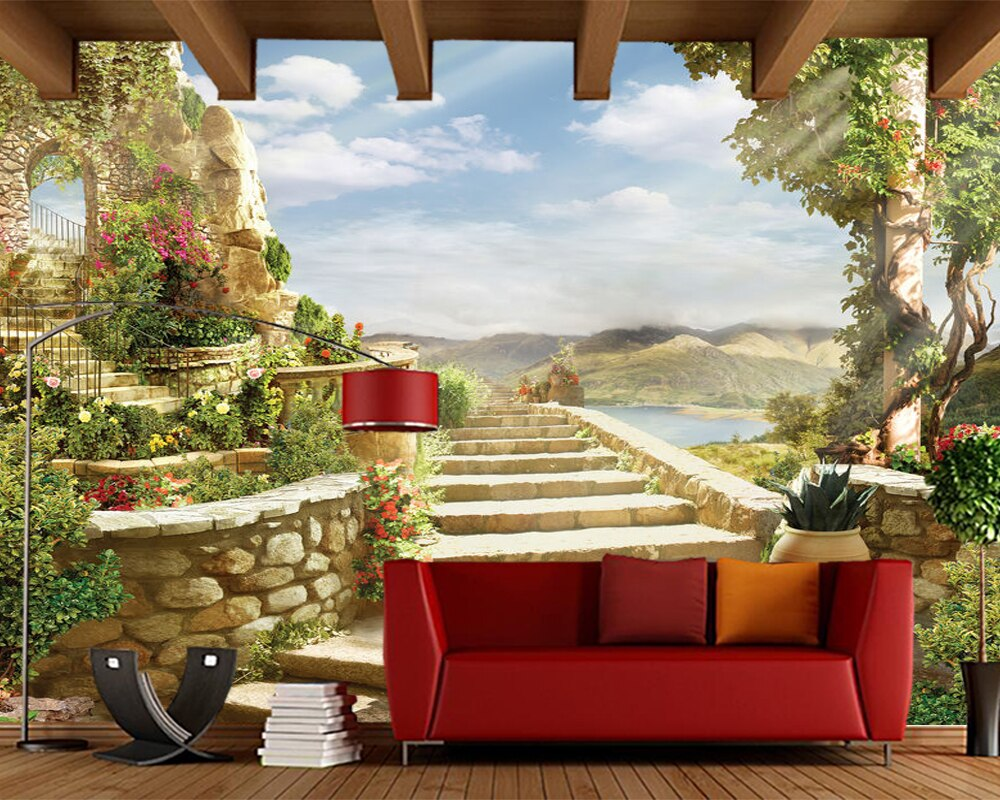buku: (259, 679, 360, 770)
lampu: (24, 308, 439, 798)
sova: (379, 546, 915, 768)
tanaman: (795, 111, 942, 464), (312, 338, 435, 634), (1, 425, 119, 723), (93, 175, 234, 360), (930, 424, 1000, 759), (764, 468, 882, 563)
